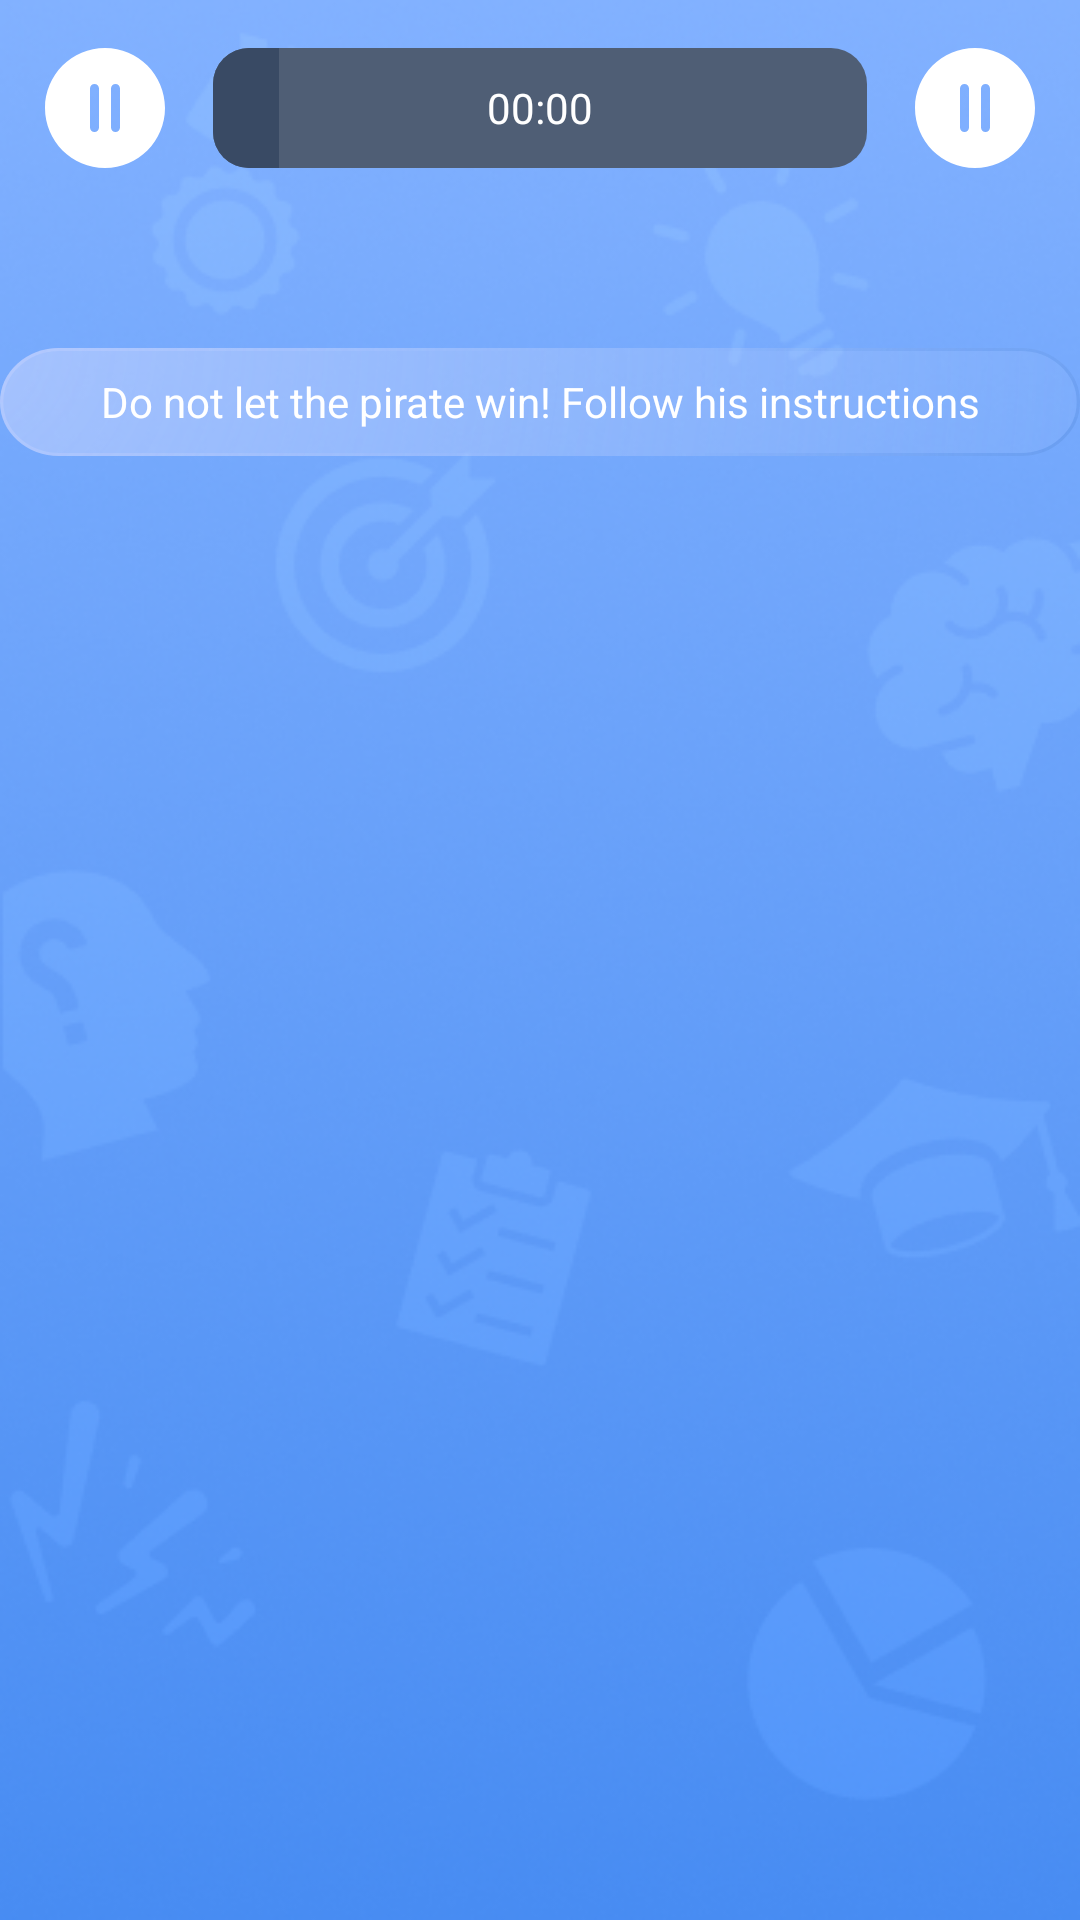

Icon click points for this 1080 × 1920 phone screenshot, format point (x, y):
pause: point (105, 108), point (975, 108)
